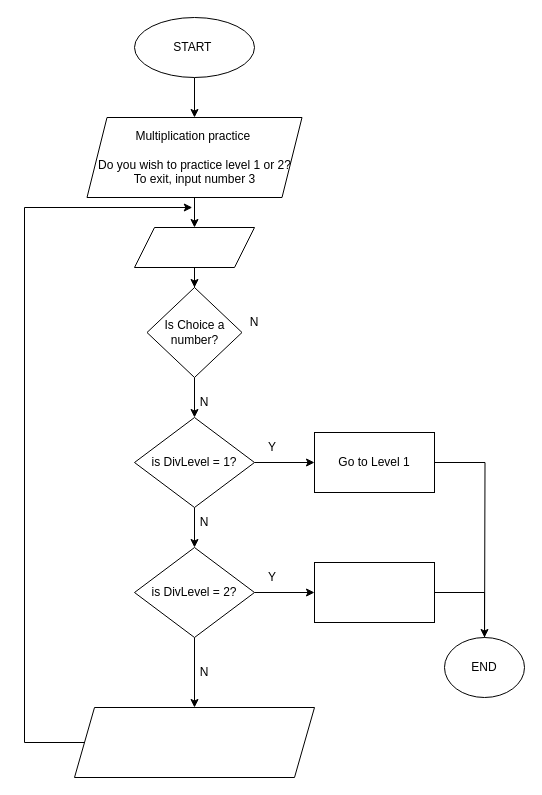
Image size: 542x795. Some labels were removed from this diagram. Here are the shapes that lost their labels. From the top down, the box of each, then its label:
(134, 226, 254, 268): Input DivLevel
(314, 562, 434, 622): Go to Level 2
(74, 706, 314, 778): output "Please choose either level 1 or 2 only"
